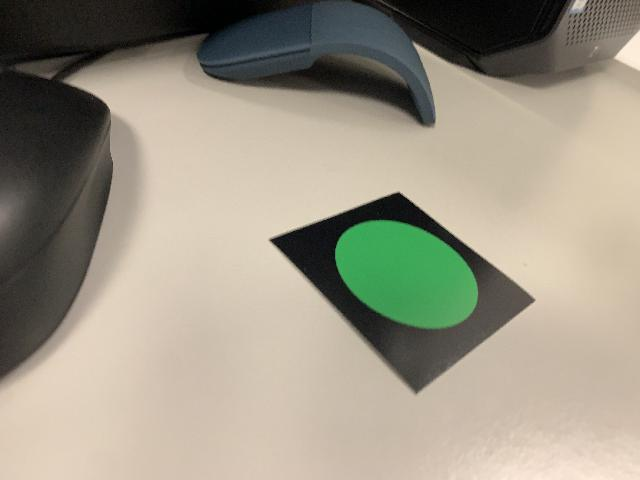go: (267, 187, 539, 399)
